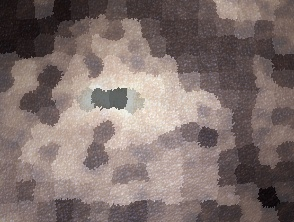vitiligo: (35, 30, 194, 173)
